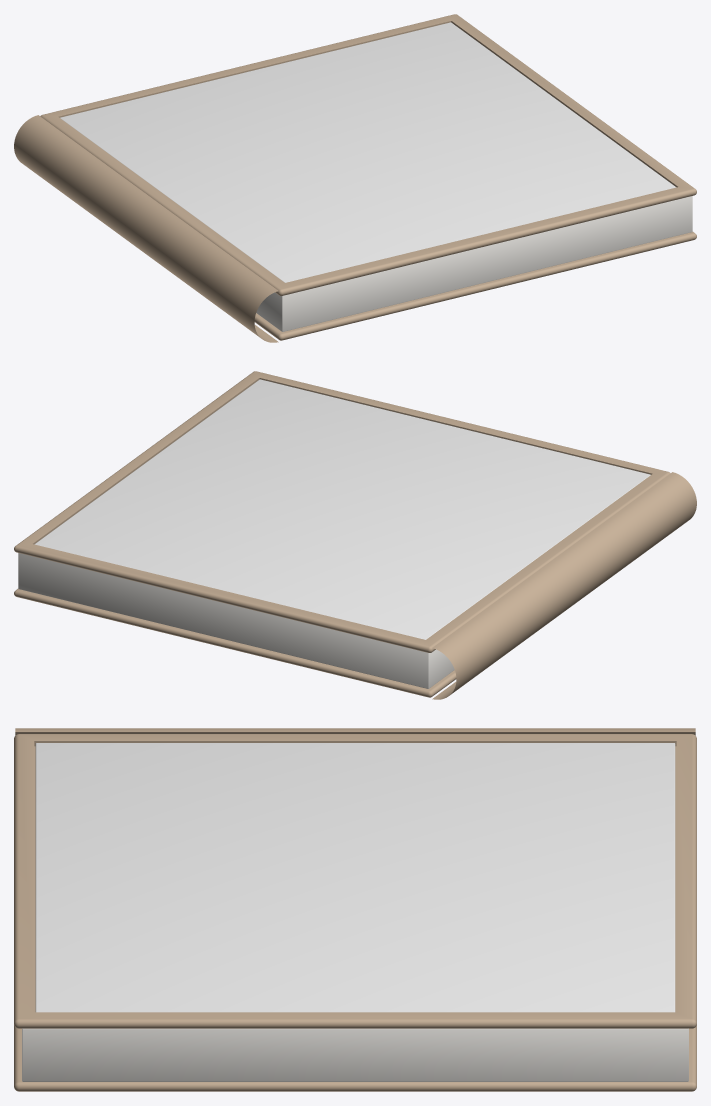
Rendered from photo-full--square.glb.
3 views of the same model, one above another, from view 1: azimuth 30°, elevation 25°; view 2: azimuth 150°, elevation 25°; view 3: azimuth 270°, elevation 25° (orthographic). The views are drawn at different scales.
Parts seen in each view (by area): view 1: Photo, Pages, Spine, CoverFront, CoverBack; view 2: Photo, Pages, Spine, CoverFront, CoverBack; view 3: Photo, Pages, CoverFront, CoverBack, Spine.
Part boxes in pixels (left/top/right/bottom): Photo: left=60, top=22, right=676, bottom=282; Pages: left=256, top=196, right=692, bottom=331; Spine: left=14, top=115, right=278, bottom=342; CoverFront: left=40, top=14, right=696, bottom=295; CoverBack: left=254, top=232, right=696, bottom=340; Photo: left=34, top=379, right=650, bottom=639; Pages: left=18, top=553, right=454, bottom=688; Spine: left=432, top=472, right=696, bottom=699; CoverFront: left=14, top=371, right=670, bottom=652; CoverBack: left=14, top=589, right=456, bottom=697; Photo: left=35, top=743, right=675, bottom=1012; Pages: left=22, top=1028, right=688, bottom=1081; CoverFront: left=14, top=734, right=696, bottom=1028; CoverBack: left=14, top=1025, right=696, bottom=1091; Spine: left=15, top=728, right=695, bottom=735.
Bounding box in the file's own units: 0.3179 × 0.0352 × 0.3.
